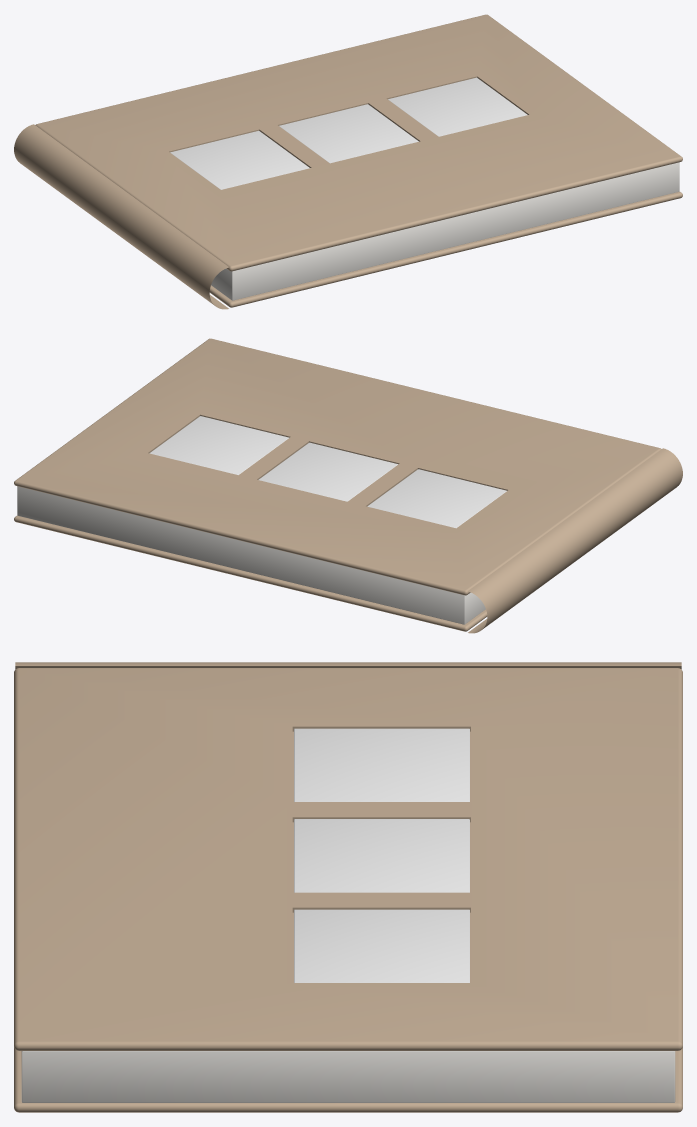
Rendered from trilogy--landscape.glb.
3 renders of one model, top to bottom at view 1: azimuth 30°, elevation 25°; view 2: azimuth 150°, elevation 25°; view 3: azimuth 270°, elevation 25°, orthographic. The views are drawn at different scales.
Parts seen in each view (by area): view 1: CoverFront, Pages, Spine, Photo2, Photo3, Photo1, CoverBack; view 2: CoverFront, Pages, Spine, Photo2, Photo1, Photo3, CoverBack; view 3: CoverFront, Pages, Photo1, Photo2, Photo3, CoverBack, Spine.
Boxes of the visible parts, box(x1,y1,x2,y2) form: CoverFront: box(35, 14, 682, 271); Pages: box(211, 162, 679, 300); Spine: box(14, 124, 228, 309); Photo2: box(279, 104, 418, 163); Photo3: box(388, 77, 527, 136); Photo1: box(170, 131, 309, 189); CoverBack: box(209, 191, 682, 307); CoverFront: box(14, 338, 661, 595); Pages: box(17, 486, 485, 624); Spine: box(468, 448, 682, 633); Photo2: box(258, 442, 397, 501); Photo1: box(367, 469, 506, 528); Photo3: box(149, 416, 289, 474); CoverBack: box(14, 515, 487, 631); CoverFront: box(14, 668, 682, 1050); Pages: box(21, 1051, 675, 1102); Photo1: box(294, 728, 469, 801); Photo2: box(294, 819, 469, 892); Photo3: box(294, 909, 469, 982); CoverBack: box(14, 1047, 682, 1112); Spine: box(15, 662, 681, 669).
Size of the model in its own units: 0.4179 by 0.0352 by 0.3.
